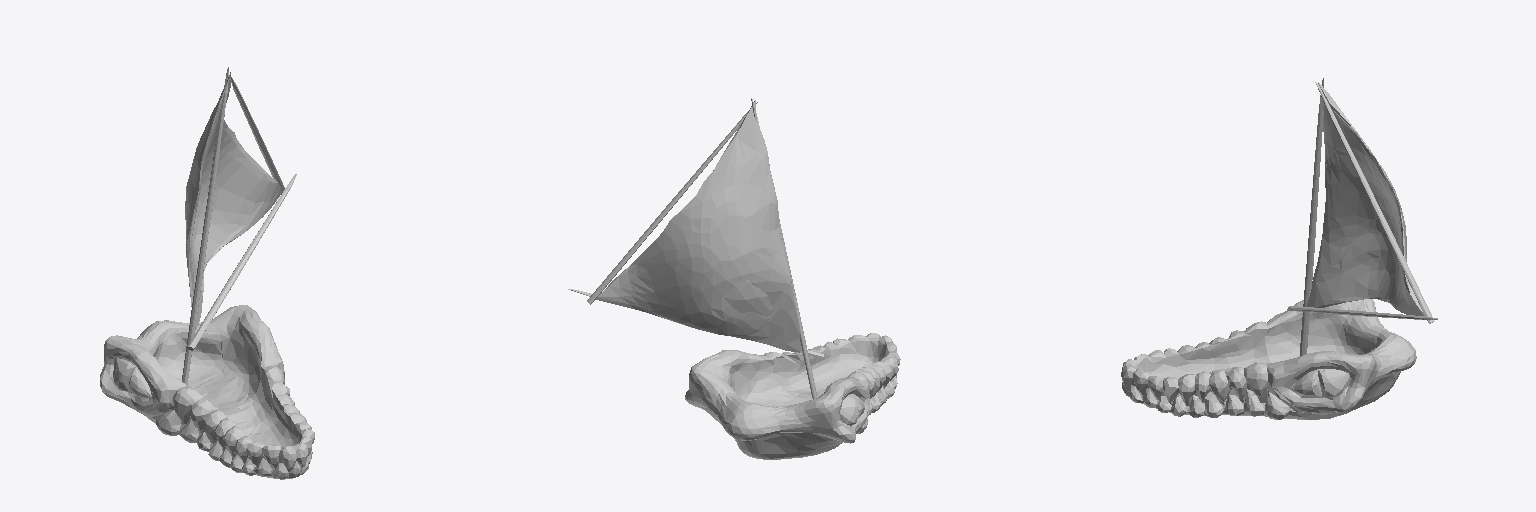
File: BTCrocodileHead.obj
The picture shows the model from 3 angles: view 1: azimuth 30°, elevation 25°; view 2: azimuth 150°, elevation 25°; view 3: azimuth 270°, elevation 25°; orthographic projection.
Visible parts, largest first — view 1: Group6772; view 2: Group6772; view 3: Group6772.
Part boxes in pixels (x1,y1,x2,y2): Group6772: (100,67,314,479); Group6772: (568,98,900,459); Group6772: (1121,78,1437,419).
Size of the model in its own units: 32.75 by 45.61 by 37.32.